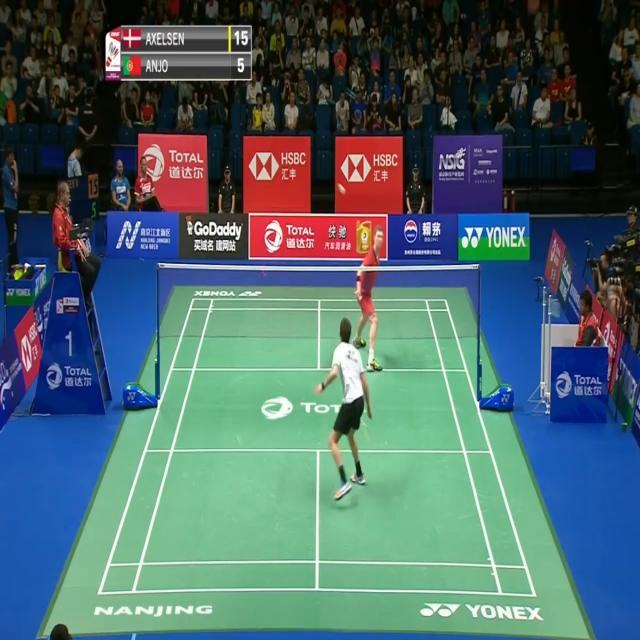Player1: (311, 308, 375, 507)
Player2: (352, 220, 390, 375)
